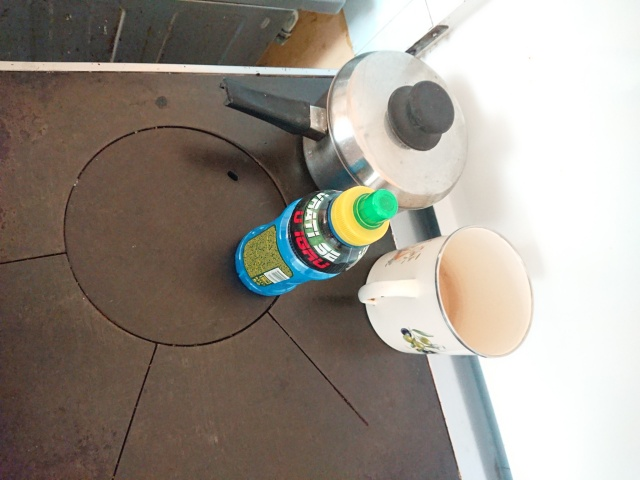Vindi Iso Sport Forest Strawberries 500mL: (232, 182, 399, 298)
